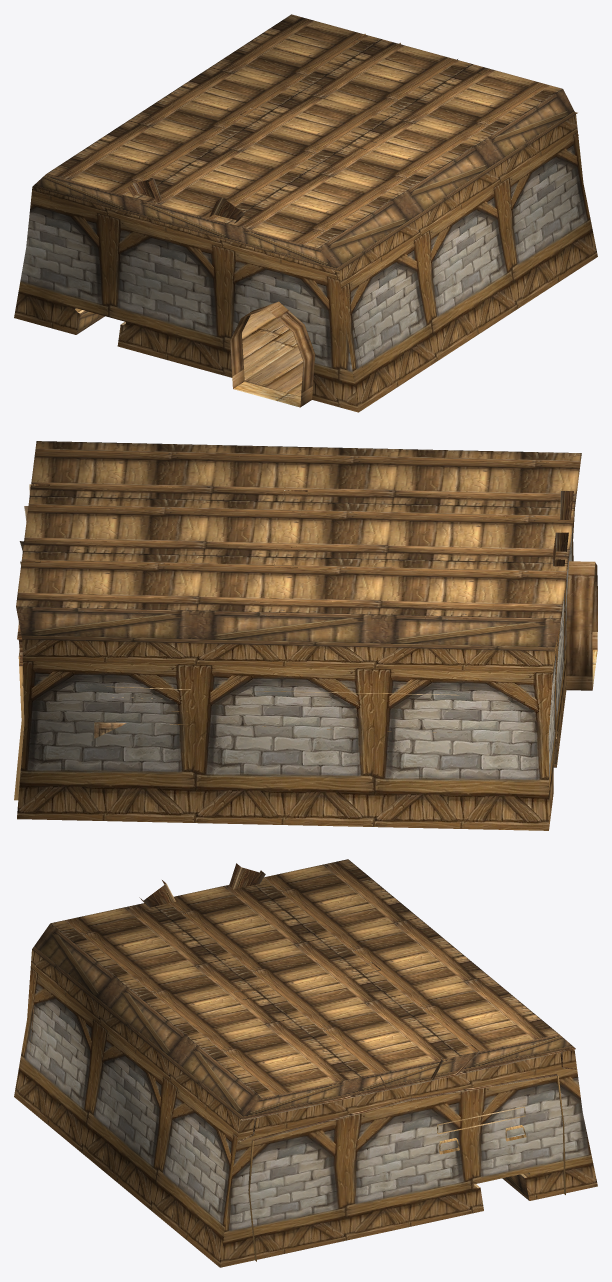
Rendered from stormwind_057.fbx.
3 views of the same model, one above another, from view 1: azimuth 30°, elevation 25°; view 2: azimuth 150°, elevation 25°; view 3: azimuth 270°, elevation 25° (orthographic). The views are drawn at different scales.
Visible parts, largest first — view 1: stormwind_057_87, stormwind_057_55, stormwind_057_56, stormwind_057_51, stormwind_057_49, stormwind_057_53; view 2: stormwind_057_87, stormwind_057_55, stormwind_057_56, stormwind_057_49, stormwind_057_53; view 3: stormwind_057_87, stormwind_057_55, stormwind_057_56, stormwind_057_53, stormwind_057_54.
Boxes of the visible parts, x1,y1,x2,y2 form: stormwind_057_87: (14, 114, 597, 412); stormwind_057_55: (47, 14, 562, 248); stormwind_057_56: (33, 89, 575, 334); stormwind_057_51: (242, 309, 303, 396); stormwind_057_49: (230, 301, 315, 407); stormwind_057_53: (127, 33, 578, 407); stormwind_057_87: (17, 510, 574, 830); stormwind_057_55: (16, 441, 581, 618); stormwind_057_56: (16, 606, 560, 767); stormwind_057_49: (566, 561, 597, 690); stormwind_057_53: (14, 484, 597, 800); stormwind_057_87: (14, 949, 597, 1267); stormwind_057_55: (51, 859, 558, 1098); stormwind_057_56: (32, 923, 573, 1200); stormwind_057_53: (26, 863, 576, 1261); stormwind_057_54: (437, 1106, 530, 1188).
Bounding box in the file's own units: 21.05 × 7.1 × 20.6.
